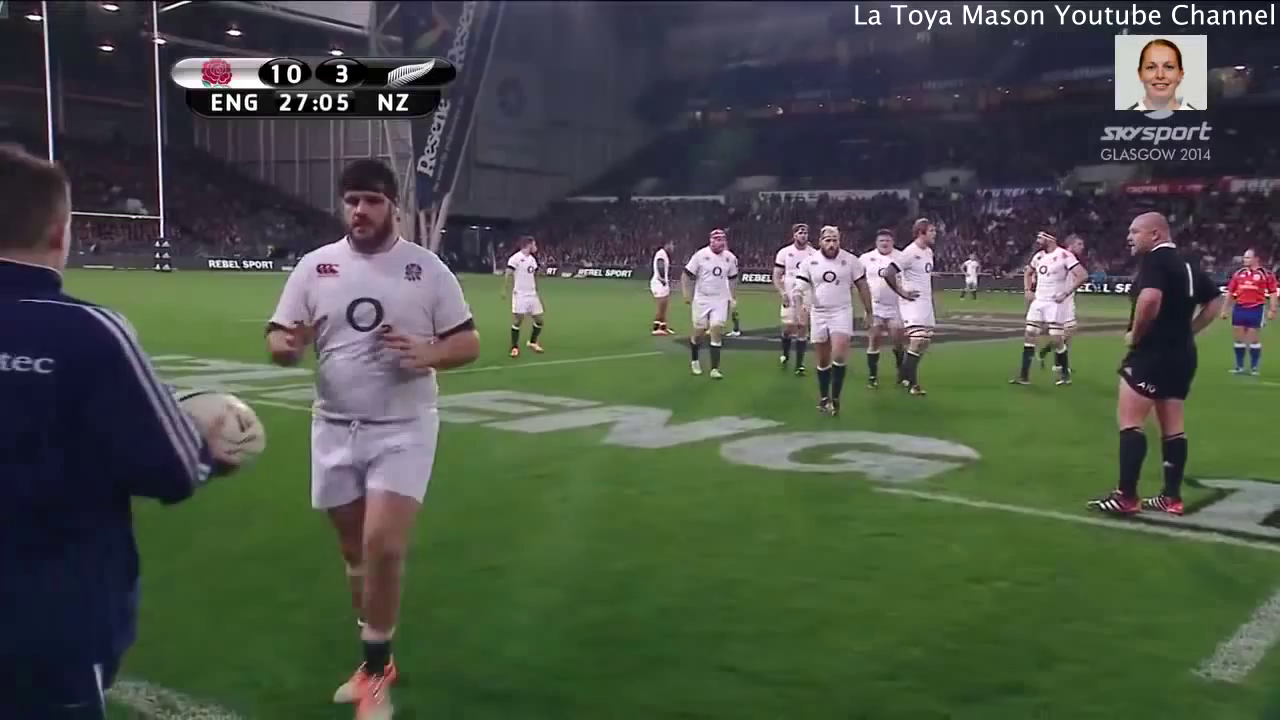ball: (143, 368, 288, 496)
player: (1, 128, 269, 720), (264, 152, 486, 720), (1062, 198, 1214, 533), (793, 218, 870, 444), (997, 217, 1081, 410), (847, 219, 913, 399), (673, 216, 738, 394), (879, 205, 931, 410), (761, 212, 814, 393), (499, 228, 563, 372), (1216, 242, 1277, 385), (635, 224, 685, 345), (1054, 223, 1089, 367), (950, 251, 984, 309)
post: (23, 1, 183, 280)
